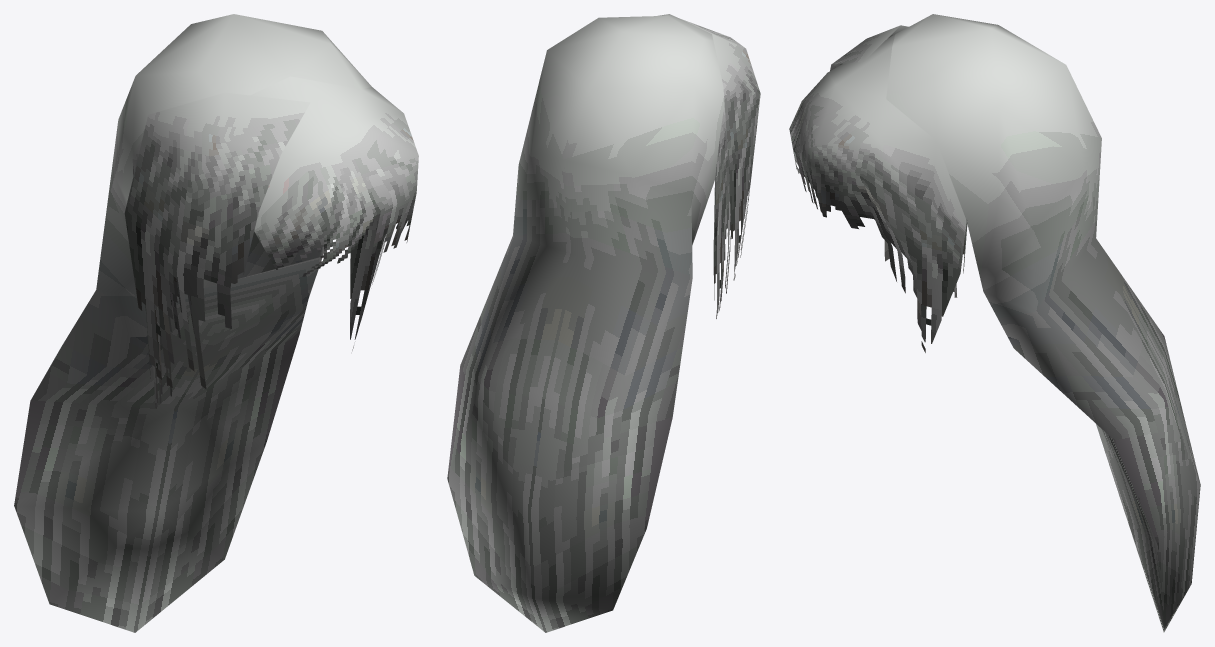
File: HUmar hair8.obj
The picture shows the model from 3 angles, left to right: view 1: azimuth 30°, elevation 25°; view 2: azimuth 150°, elevation 25°; view 3: azimuth 270°, elevation 25°; orthographic projection. The views are drawn at different scales.
Parts seen in each view (by area): view 1: objg_plAhai07_1; view 2: objg_plAhai07_1; view 3: objg_plAhai07_1.
Boxes of the visible parts, bbox=[...] form: objg_plAhai07_1: bbox=[14, 14, 418, 632]; objg_plAhai07_1: bbox=[447, 14, 760, 632]; objg_plAhai07_1: bbox=[789, 14, 1200, 632].
Size of the model in its own units: 0.8607 by 2.11 by 1.3.
1 material, 1 textured.
